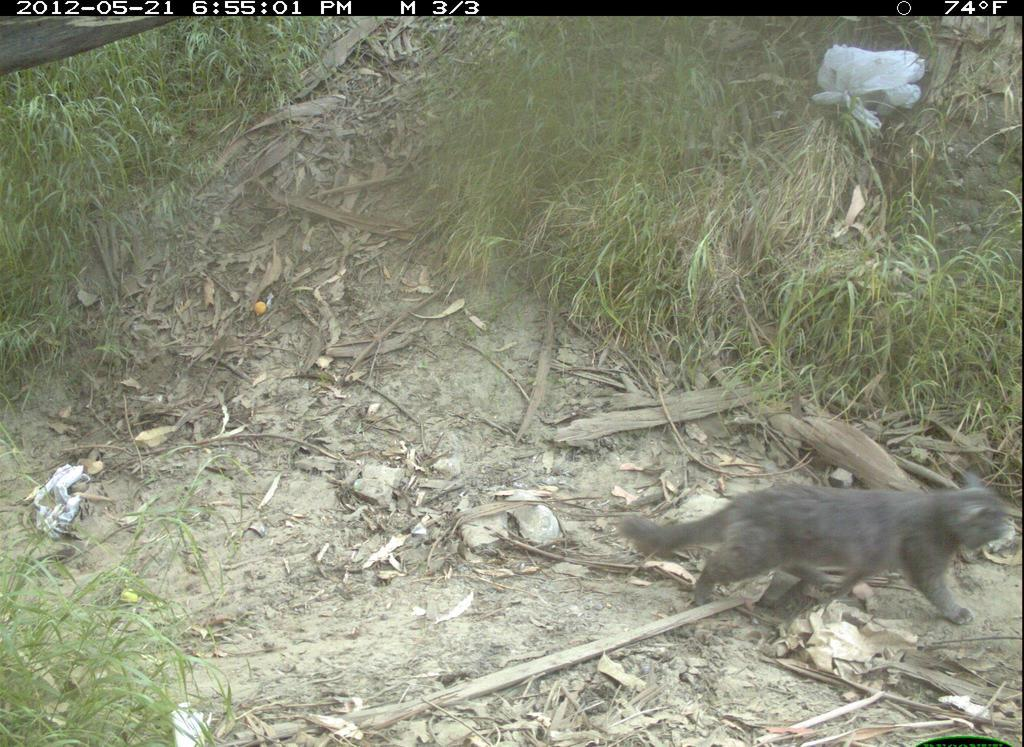cat: (610, 474, 1022, 651)
